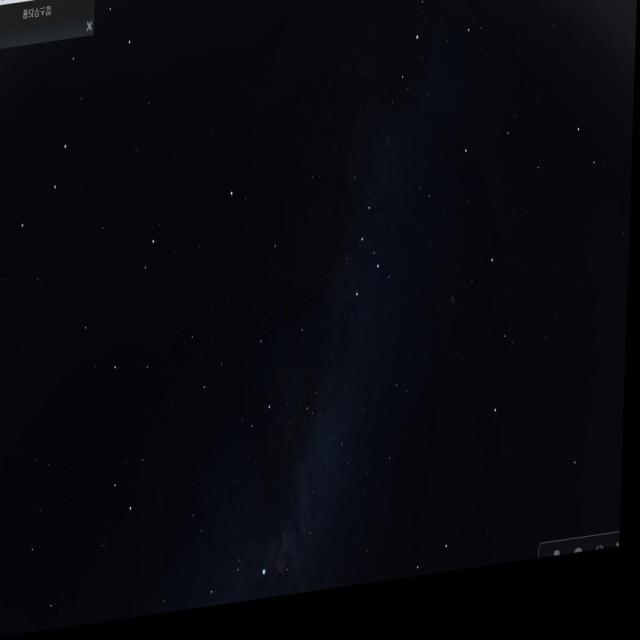cassiopeia: (334, 179, 395, 329)
ursa_major: (14, 0, 140, 242)
